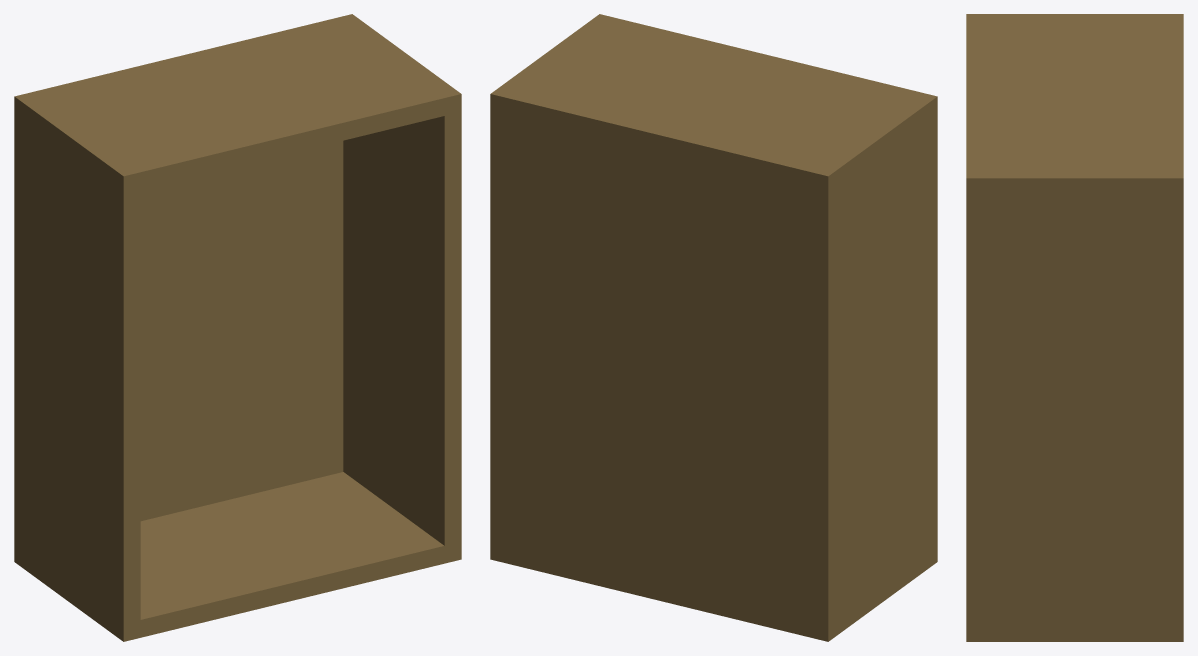
The model's file is Itr_Wardrobe3_Body2_01.FBX.
3 views of the same model, side by side, from view 1: azimuth 30°, elevation 25°; view 2: azimuth 150°, elevation 25°; view 3: azimuth 270°, elevation 25° (orthographic).
Visible parts, largest first — view 1: Itr_Wardrobe3_Body2_01; view 2: Itr_Wardrobe3_Body2_01; view 3: Itr_Wardrobe3_Body2_01.
Boxes of the visible parts, box(x1,y1,x2,y2) form: Itr_Wardrobe3_Body2_01: box(14, 14, 461, 641); Itr_Wardrobe3_Body2_01: box(490, 14, 937, 641); Itr_Wardrobe3_Body2_01: box(966, 14, 1183, 641).
Size of the model in its own units: 43.75 by 57.59 by 24.49.
